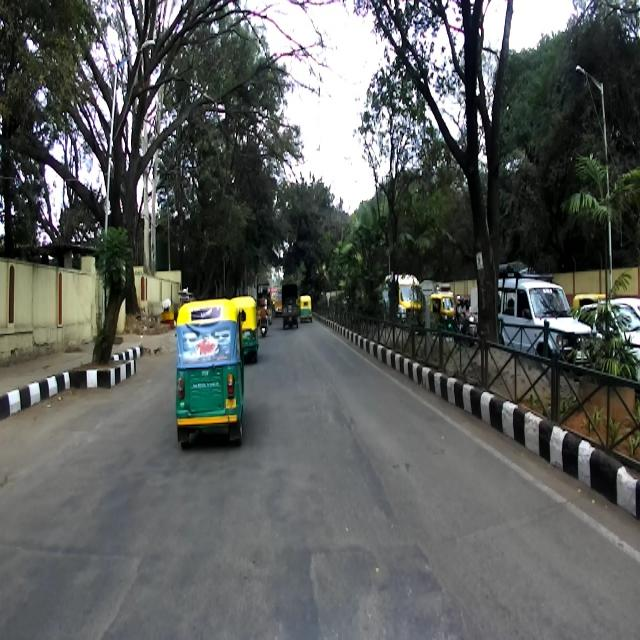autorickshaw: (175, 298, 246, 449)
car: (494, 259, 594, 373), (582, 296, 640, 381)
